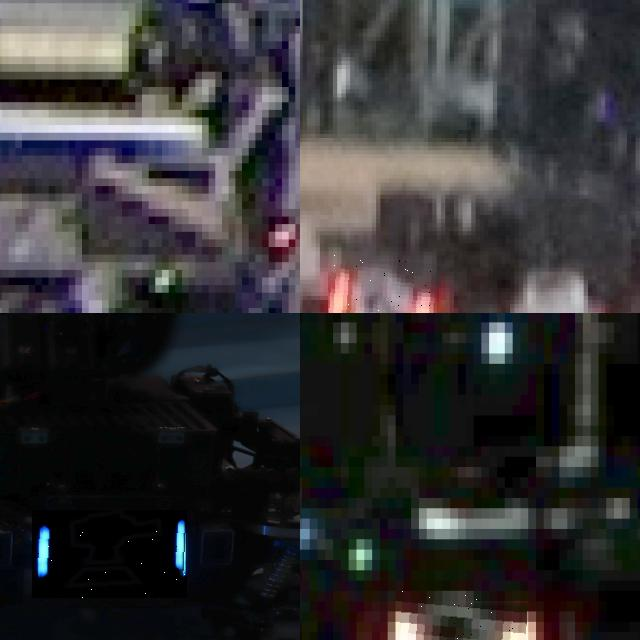Bs: (32, 510, 187, 598)
Rs: (395, 590, 528, 640), (328, 255, 440, 313)
